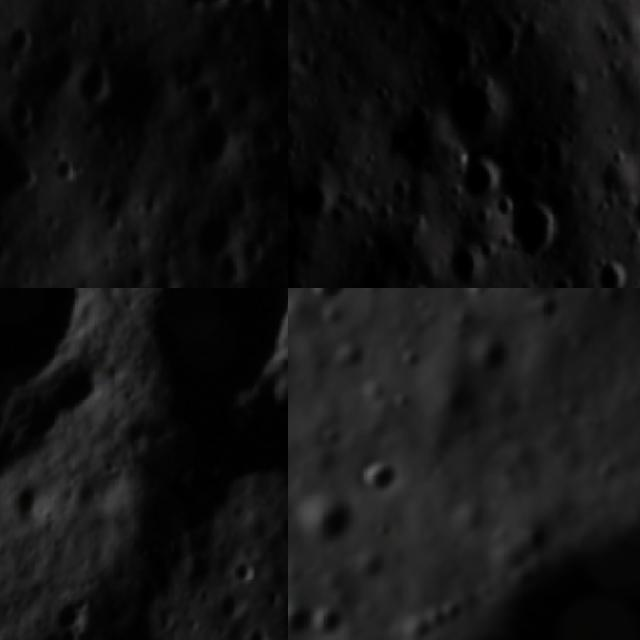crater: (108, 288, 288, 405), (0, 288, 97, 415), (433, 71, 511, 152), (419, 13, 488, 85), (504, 198, 570, 266), (23, 31, 80, 102), (67, 48, 124, 111), (188, 206, 243, 268), (193, 111, 247, 174), (4, 468, 54, 522), (458, 150, 504, 208), (293, 498, 345, 545), (47, 140, 87, 197), (43, 586, 92, 630), (442, 238, 485, 288), (182, 76, 226, 124), (357, 458, 408, 498), (213, 585, 259, 623), (7, 154, 47, 197), (226, 552, 269, 588), (179, 0, 237, 23), (588, 258, 632, 288), (270, 229, 288, 287), (220, 0, 269, 20), (314, 607, 343, 640), (621, 187, 640, 236), (522, 0, 571, 14), (307, 288, 353, 298), (89, 281, 150, 288)
